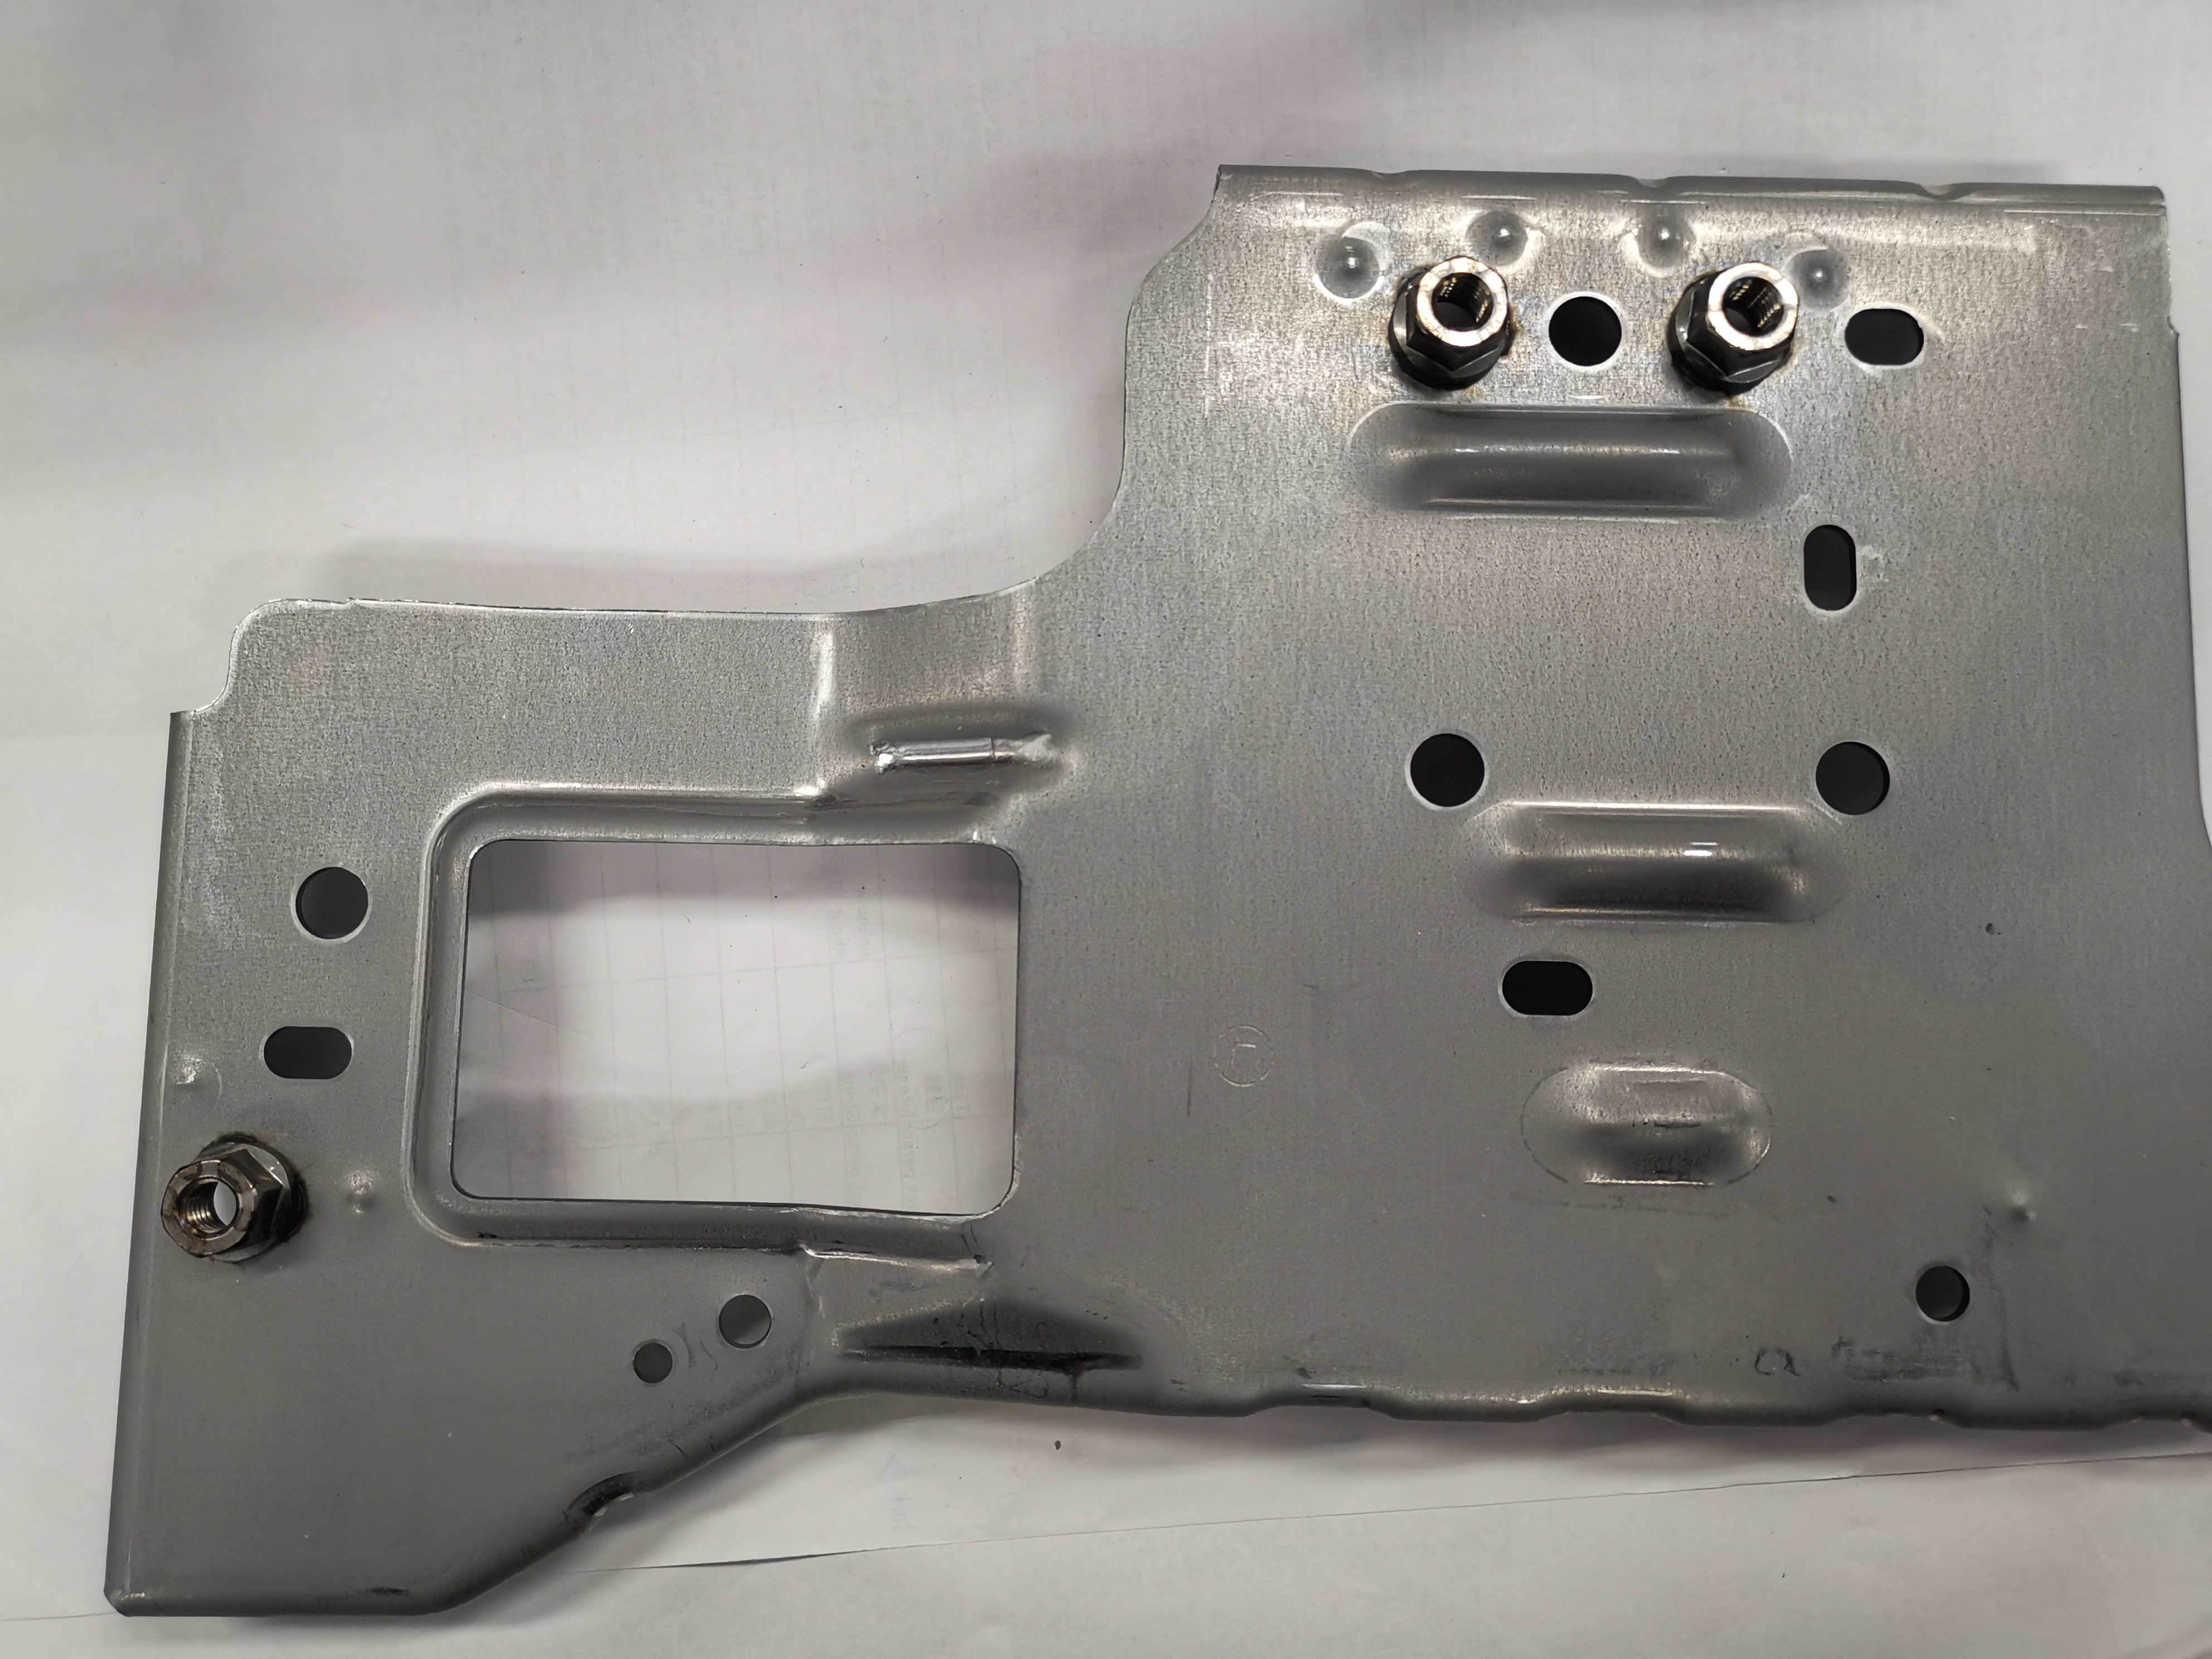dog: (153, 1126, 314, 1270), (1385, 251, 1521, 396), (1665, 260, 1806, 397)
